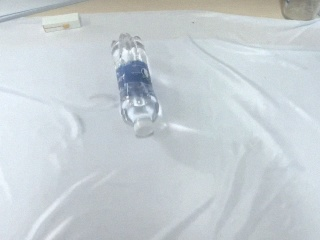bottle: (110, 33, 160, 138), (279, 1, 320, 21)
